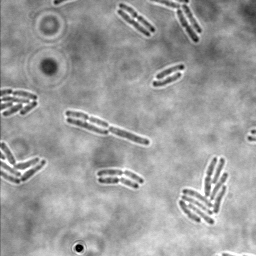Dividing: (118, 2, 156, 34), (116, 9, 150, 39), (175, 9, 199, 43), (96, 168, 144, 185), (65, 110, 109, 128), (181, 3, 203, 35), (97, 176, 138, 190)
Microcolony: (178, 156, 230, 226), (1, 141, 47, 184), (1, 88, 40, 118)
Rod: (108, 124, 151, 147), (65, 117, 109, 136), (152, 71, 182, 88), (155, 63, 185, 80)
